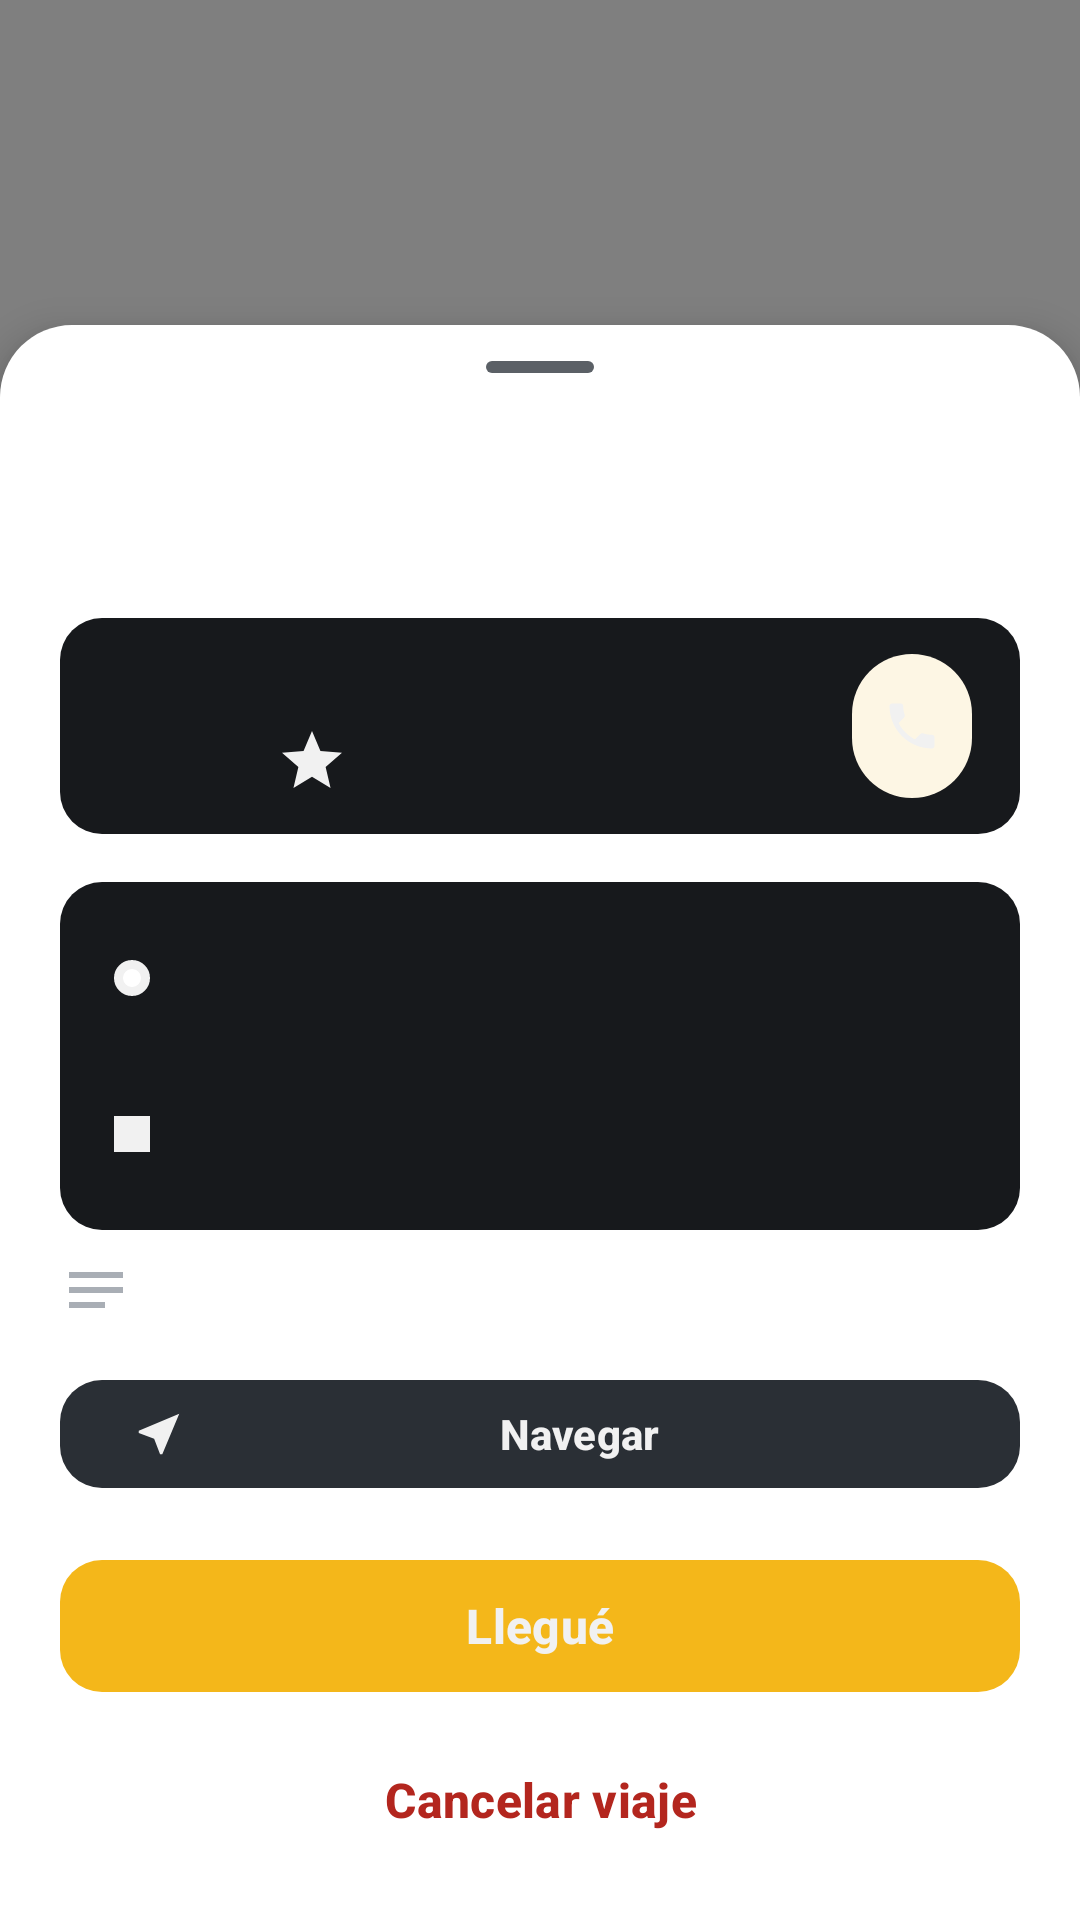

Icons on this 1080 × 1920 Android screen, each with its box as (x1, y1, x2, y2):
Llamar: (852, 654, 972, 798)
punto origen: (114, 960, 150, 996)
